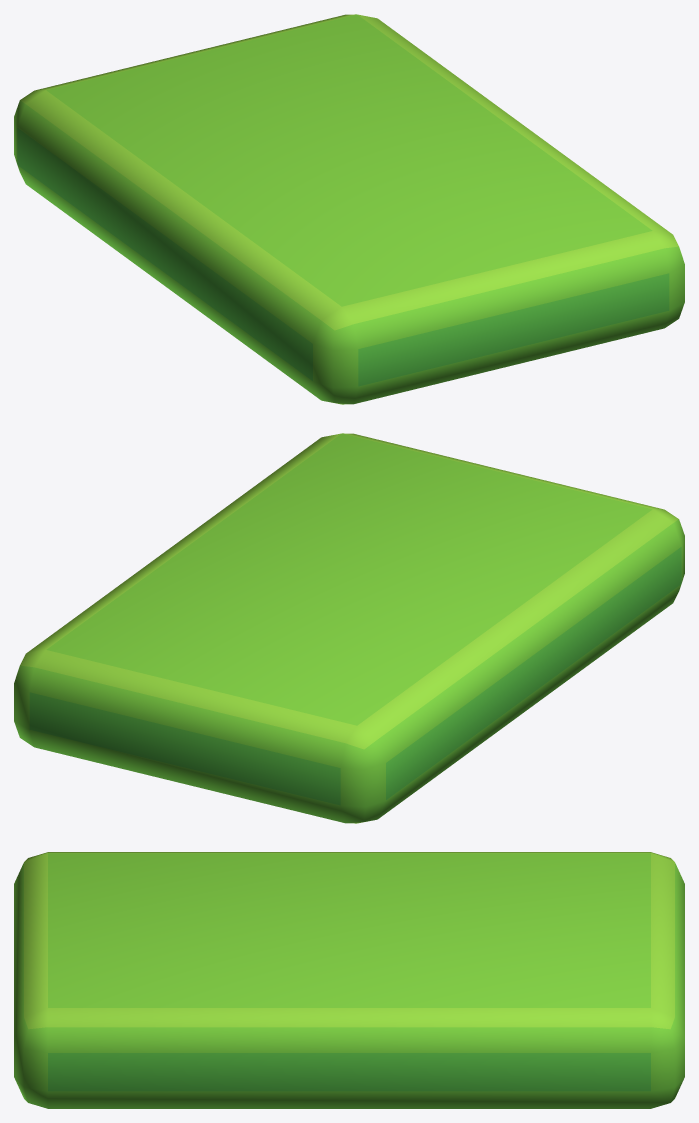
File: dynamic platform.fbx
3 views of the same model, one above another, from view 1: azimuth 30°, elevation 25°; view 2: azimuth 150°, elevation 25°; view 3: azimuth 270°, elevation 25° (orthographic).
Visible parts, largest first — view 1: dynamic platform; view 2: dynamic platform; view 3: dynamic platform.
Part boxes in pixels (box(x1,y1,x2,y2)): dynamic platform: box(14, 14, 684, 404); dynamic platform: box(14, 433, 684, 823); dynamic platform: box(14, 852, 684, 1108).
Bounding box in the file's own units: 560 × 142 × 866.
